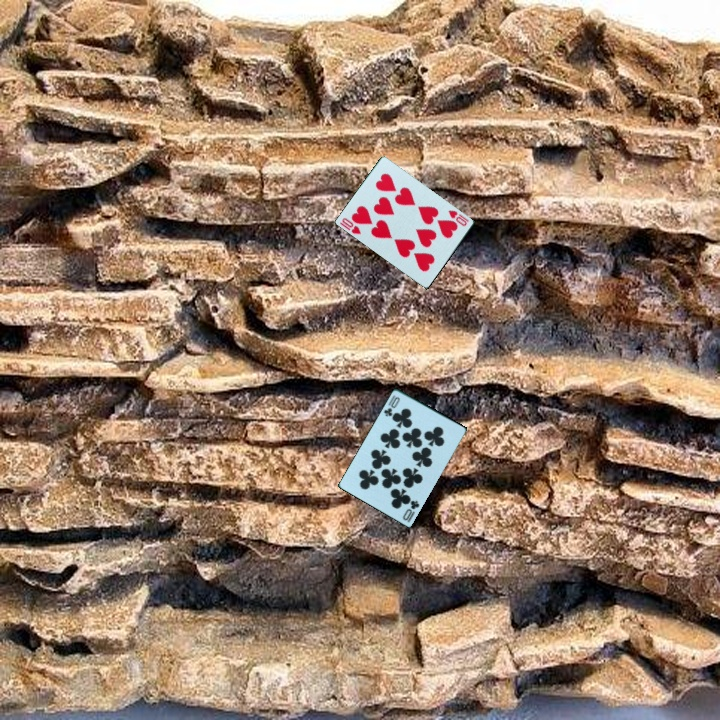10c: (380, 393, 403, 419), (404, 497, 422, 525)
10h: (337, 214, 364, 237), (445, 207, 472, 229)
